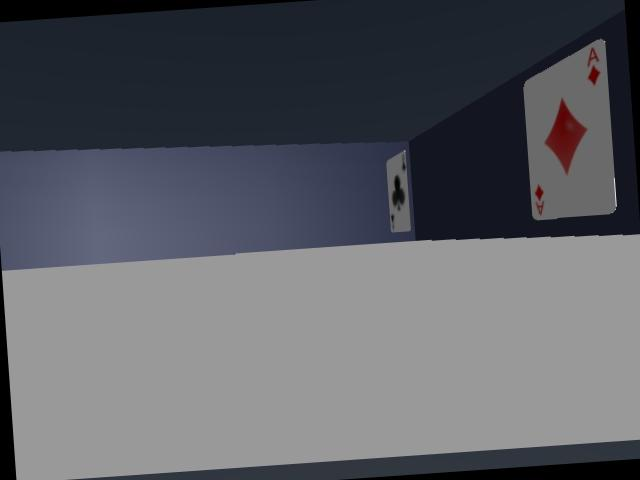club: (386, 151, 410, 231)
diamond: (519, 38, 617, 220)
